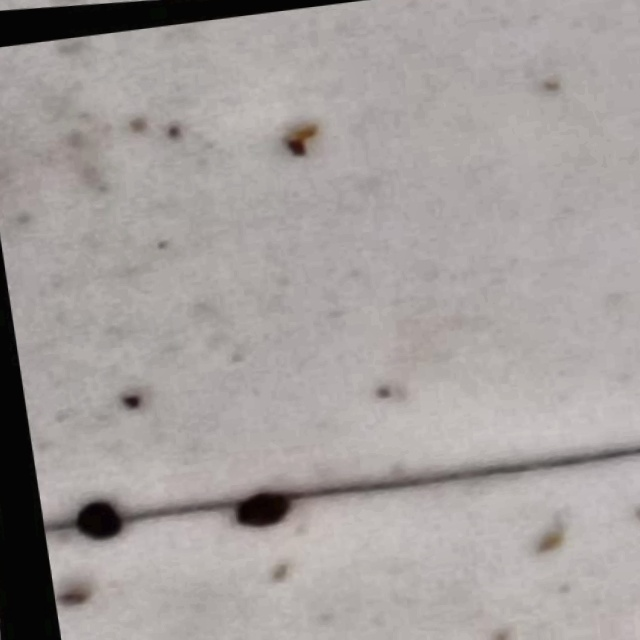varroa: (225, 485, 290, 531), (66, 497, 118, 543)
